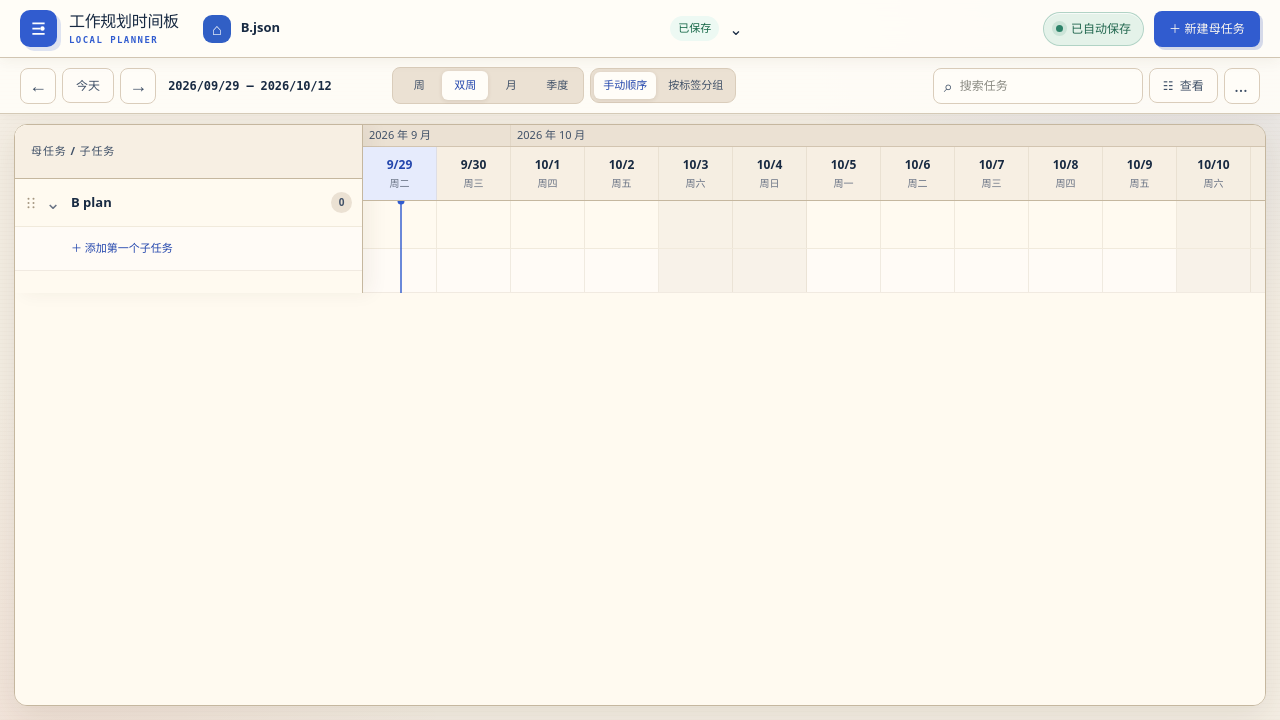
Test: App › switches between recent projects without merging their boards
Expected: the button "B plan" is shown, x1=67 y1=188 x2=331 y2=217
What coordinates should you click on to do the following:
click the button "⌂ B.json 已保存 ⌄"
I would click on:
 (260, 27)
Its box is x1=193 y1=6 x2=753 y2=50.
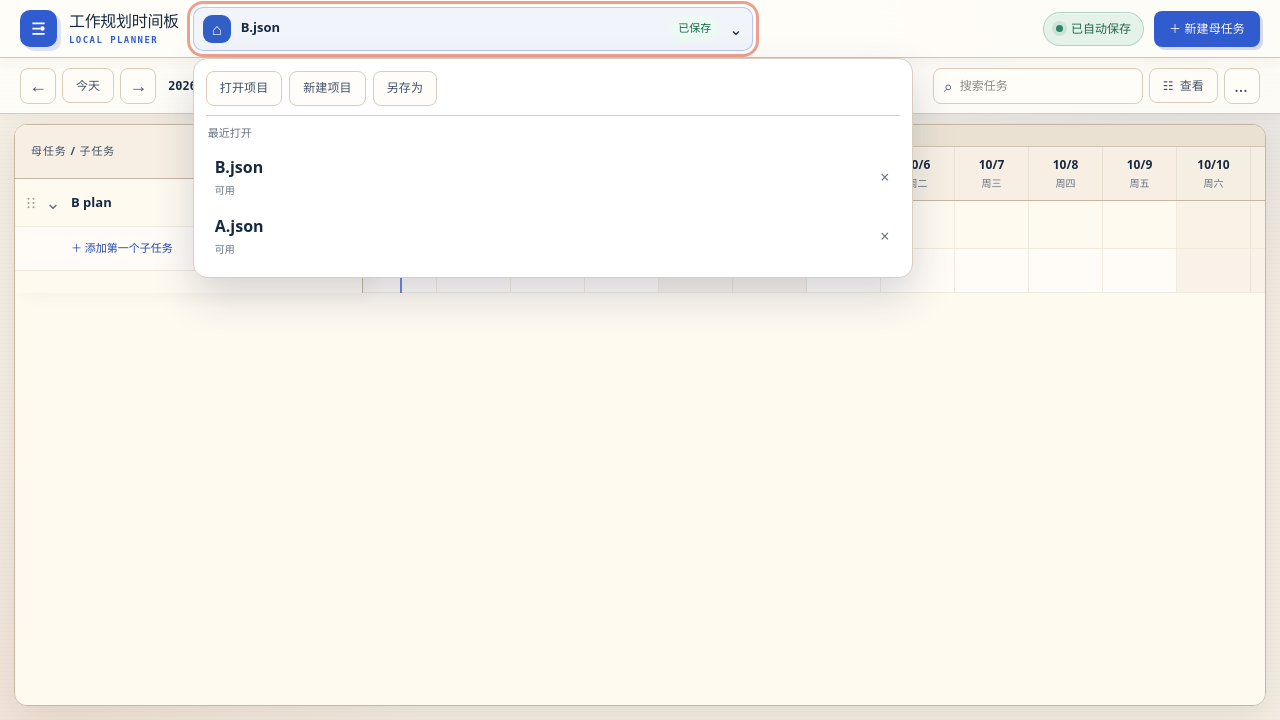
What coordinates should you click on to do the following:
click the button "A.json 可用"
I would click on:
 (239, 226)
Its box is x1=206 y1=206 x2=866 y2=265.
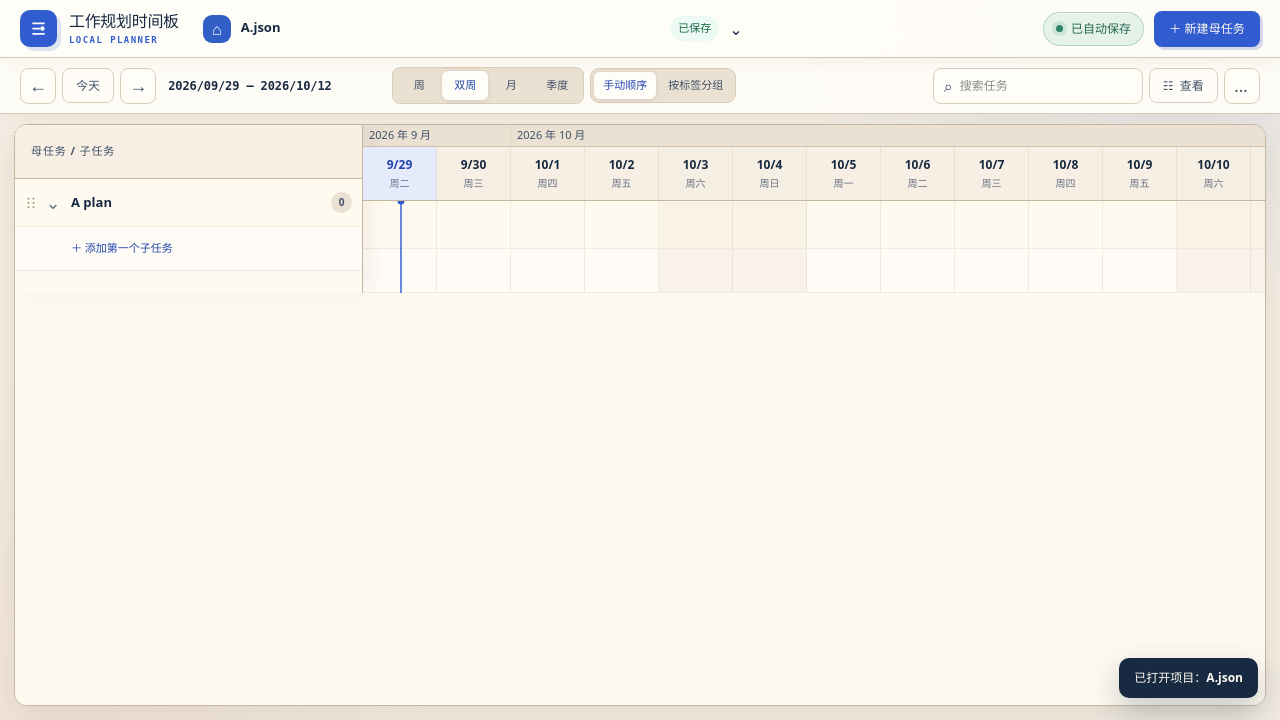
Now the button "A plan" is shown, box x1=67 y1=188 x2=331 y2=217
Now the button "B plan" is gone
